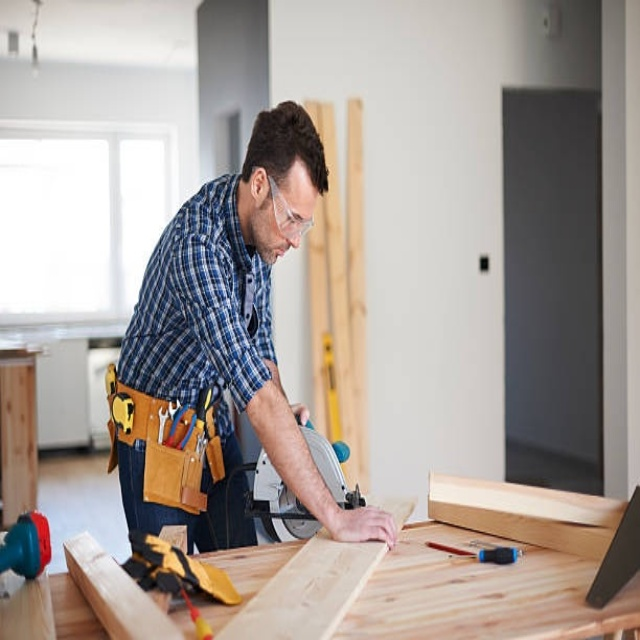Gafas: (267, 172, 313, 241)
Sin_guantes: (330, 493, 402, 555)
Sin_mascara: (262, 240, 298, 271)
